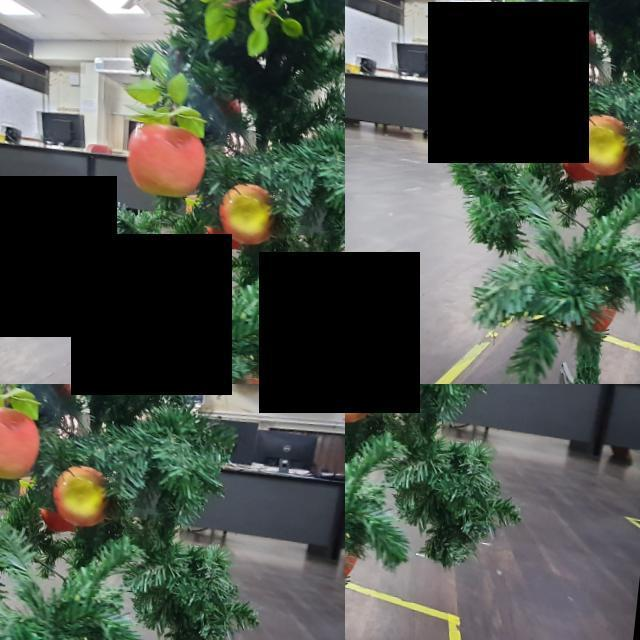Tree: (66, 1, 346, 385), (386, 1, 640, 385), (346, 385, 568, 640), (99, 385, 304, 640)
